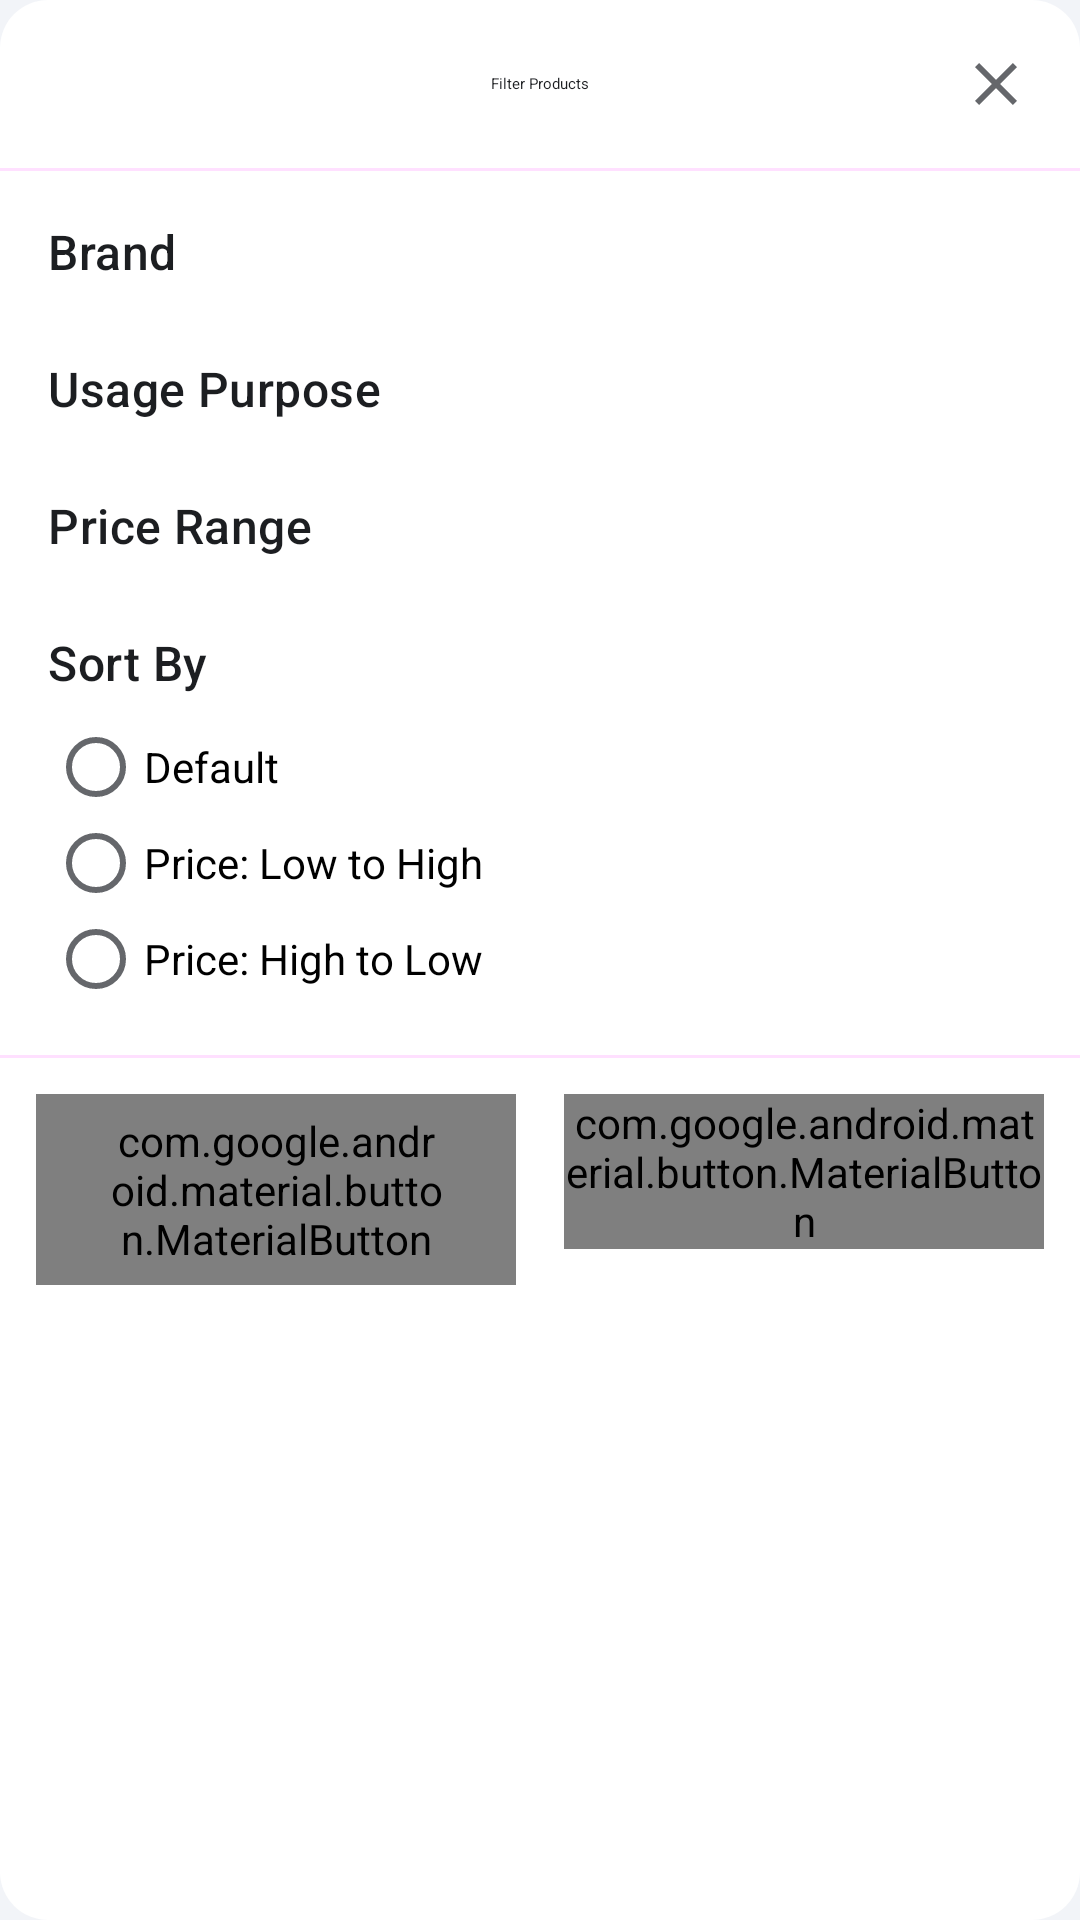

Icons on this 1080x1920 Android screen, each with its box as (x1, y1, x2, y2):
close: (975, 63, 1017, 105)
